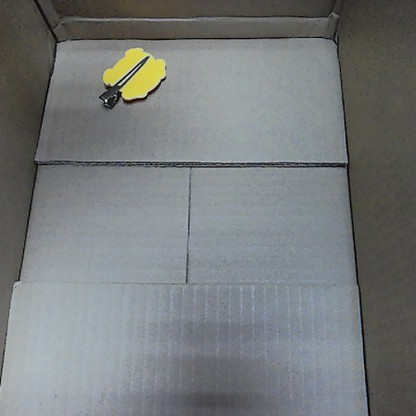dogclip: (98, 45, 167, 110)
